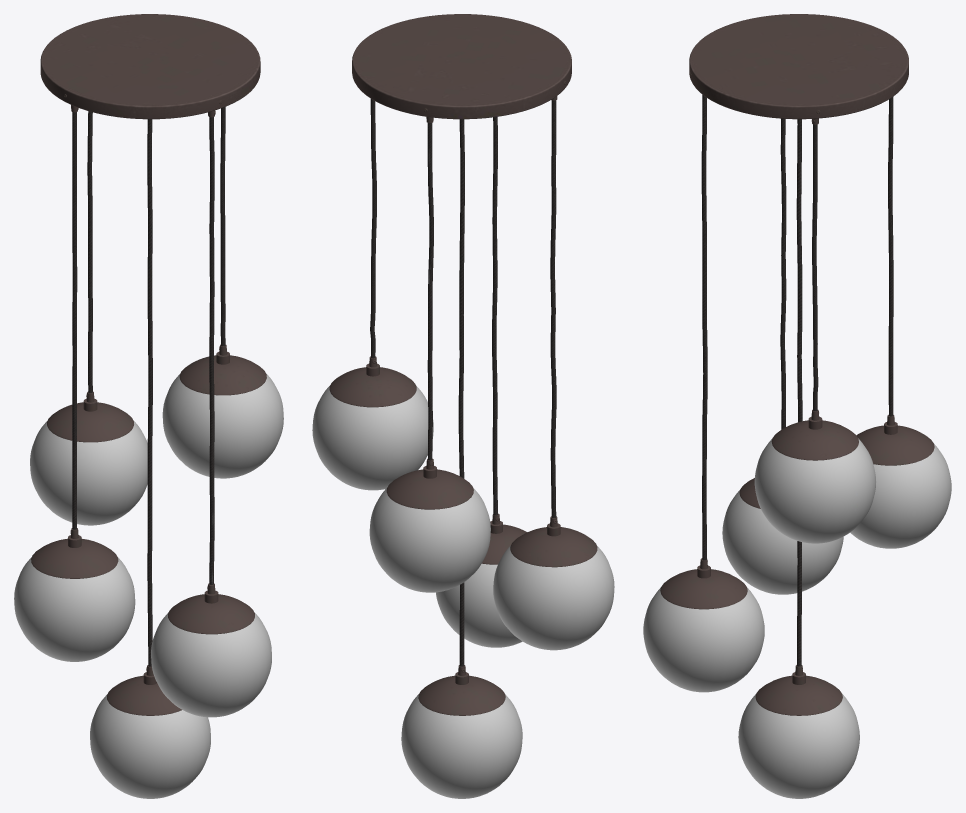
3 renders of one model, left to right at view 1: azimuth 30°, elevation 25°; view 2: azimuth 150°, elevation 25°; view 3: azimuth 270°, elevation 25°, orthographic.
Visible parts, largest first — view 1: RootNode; view 2: RootNode; view 3: RootNode.
Part boxes in pixels (bbox=[...]): RootNode: bbox=[14, 14, 283, 798]; RootNode: bbox=[312, 14, 614, 798]; RootNode: bbox=[643, 14, 951, 798].
Bounding box in the file's own units: 0.4893 × 1.27 × 0.4842.
Materials: 1 (1 with a texture image).
